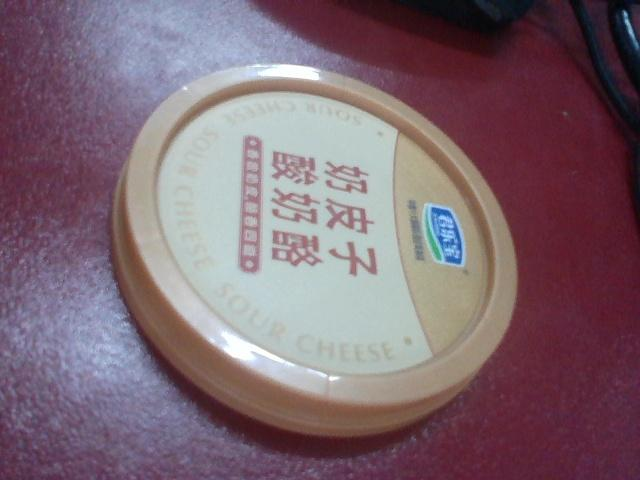lid: (107, 58, 521, 450)
